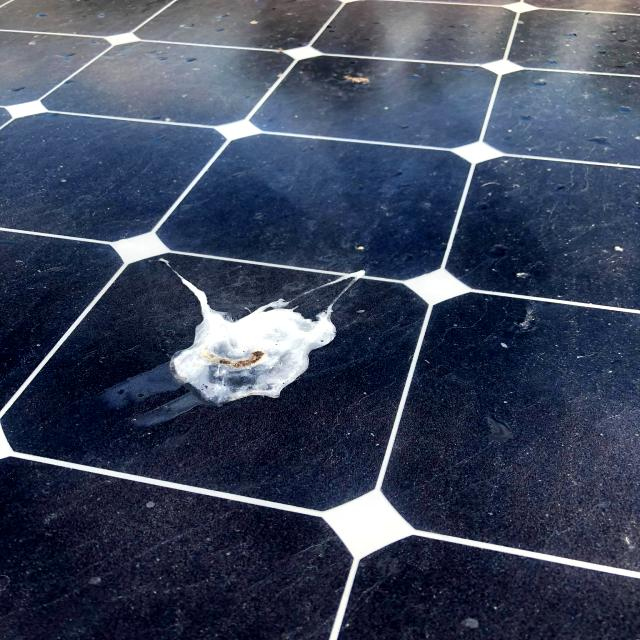bird: (134, 250, 380, 413)
